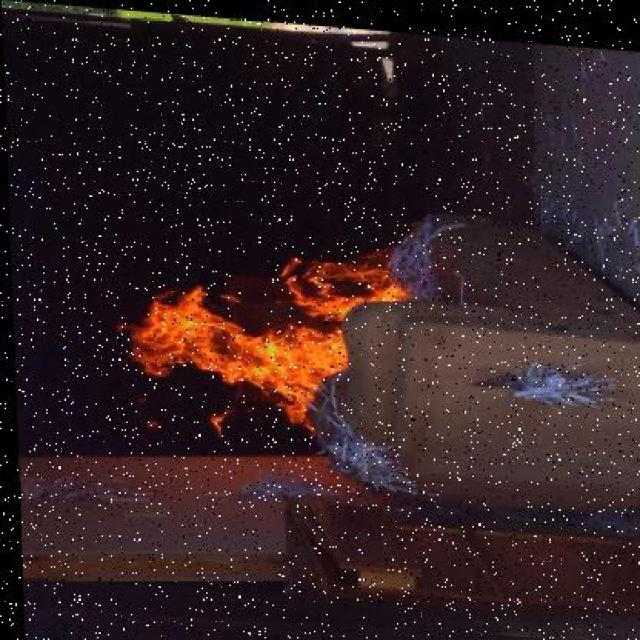fire: (114, 242, 337, 437)
